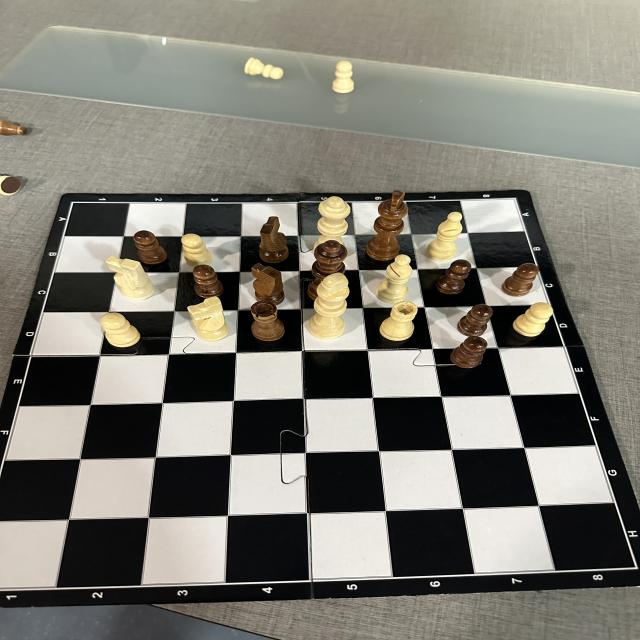Black-Bishop: (0, 120, 27, 136)
Black-King: (365, 190, 409, 261)
Black-Knight: (258, 216, 290, 264), (251, 263, 285, 306)
Black-Pawn: (434, 259, 472, 295), (501, 262, 540, 297), (456, 304, 494, 338), (450, 336, 488, 369), (133, 230, 168, 264), (192, 265, 225, 298)
Black-Queen: (307, 240, 348, 301)
Black-Rook: (250, 300, 286, 341)
White-Bishop: (425, 210, 463, 262), (376, 254, 414, 304)
White-King: (307, 272, 351, 341)
White-Knight: (105, 256, 156, 302), (186, 296, 230, 342)
White-Pawn: (100, 312, 141, 348), (513, 302, 553, 338), (180, 233, 212, 267), (243, 58, 284, 80), (332, 60, 355, 94)
White-Queen: (316, 196, 352, 241)
White-Rook: (379, 300, 419, 342)
